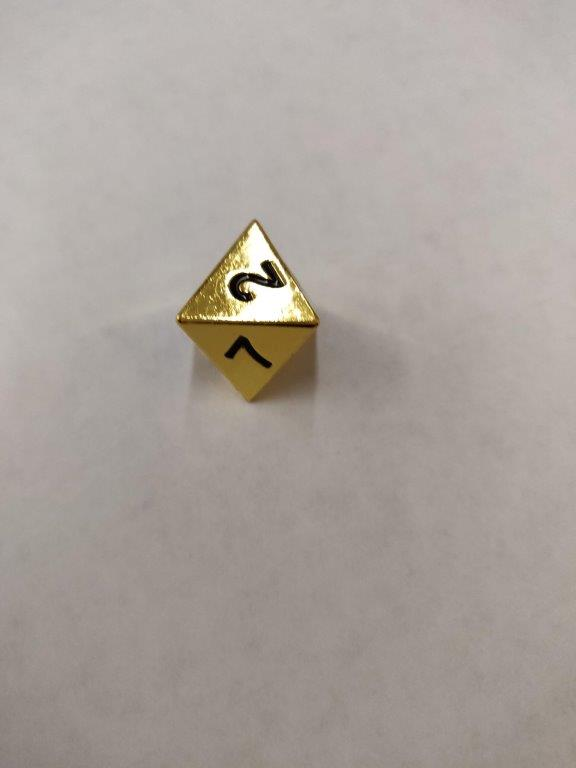d8-2: (174, 217, 321, 400)
